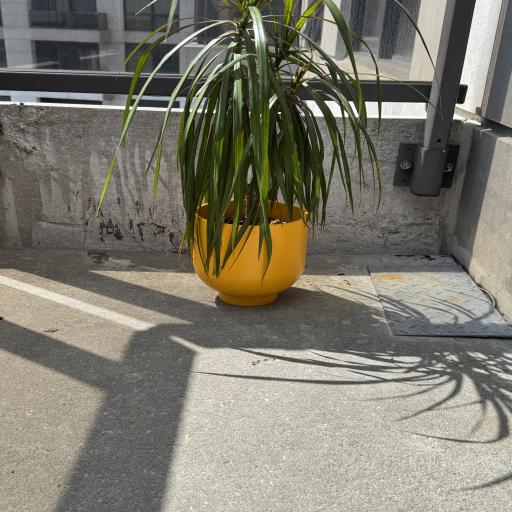Plant Pot: (192, 200, 309, 304)
